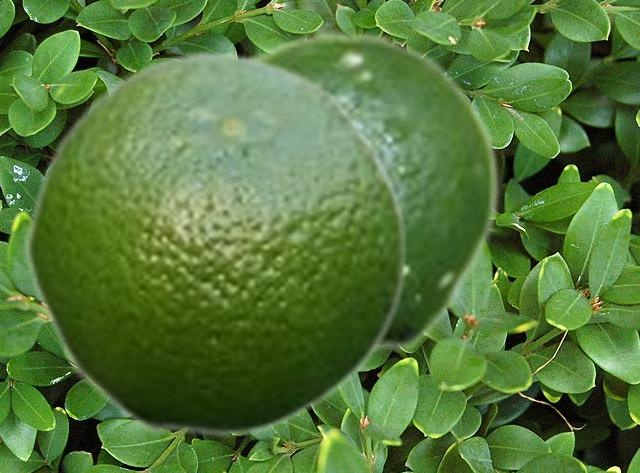calamansi: (22, 47, 408, 437), (240, 30, 501, 359)
